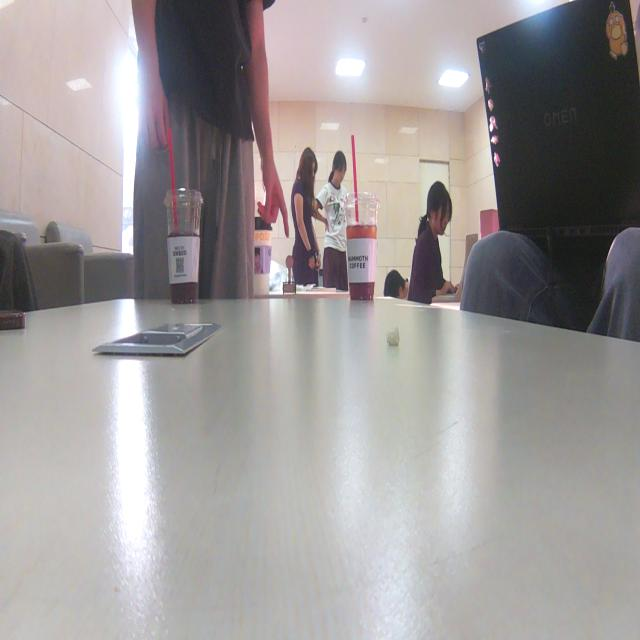target: (283, 255, 296, 294)
